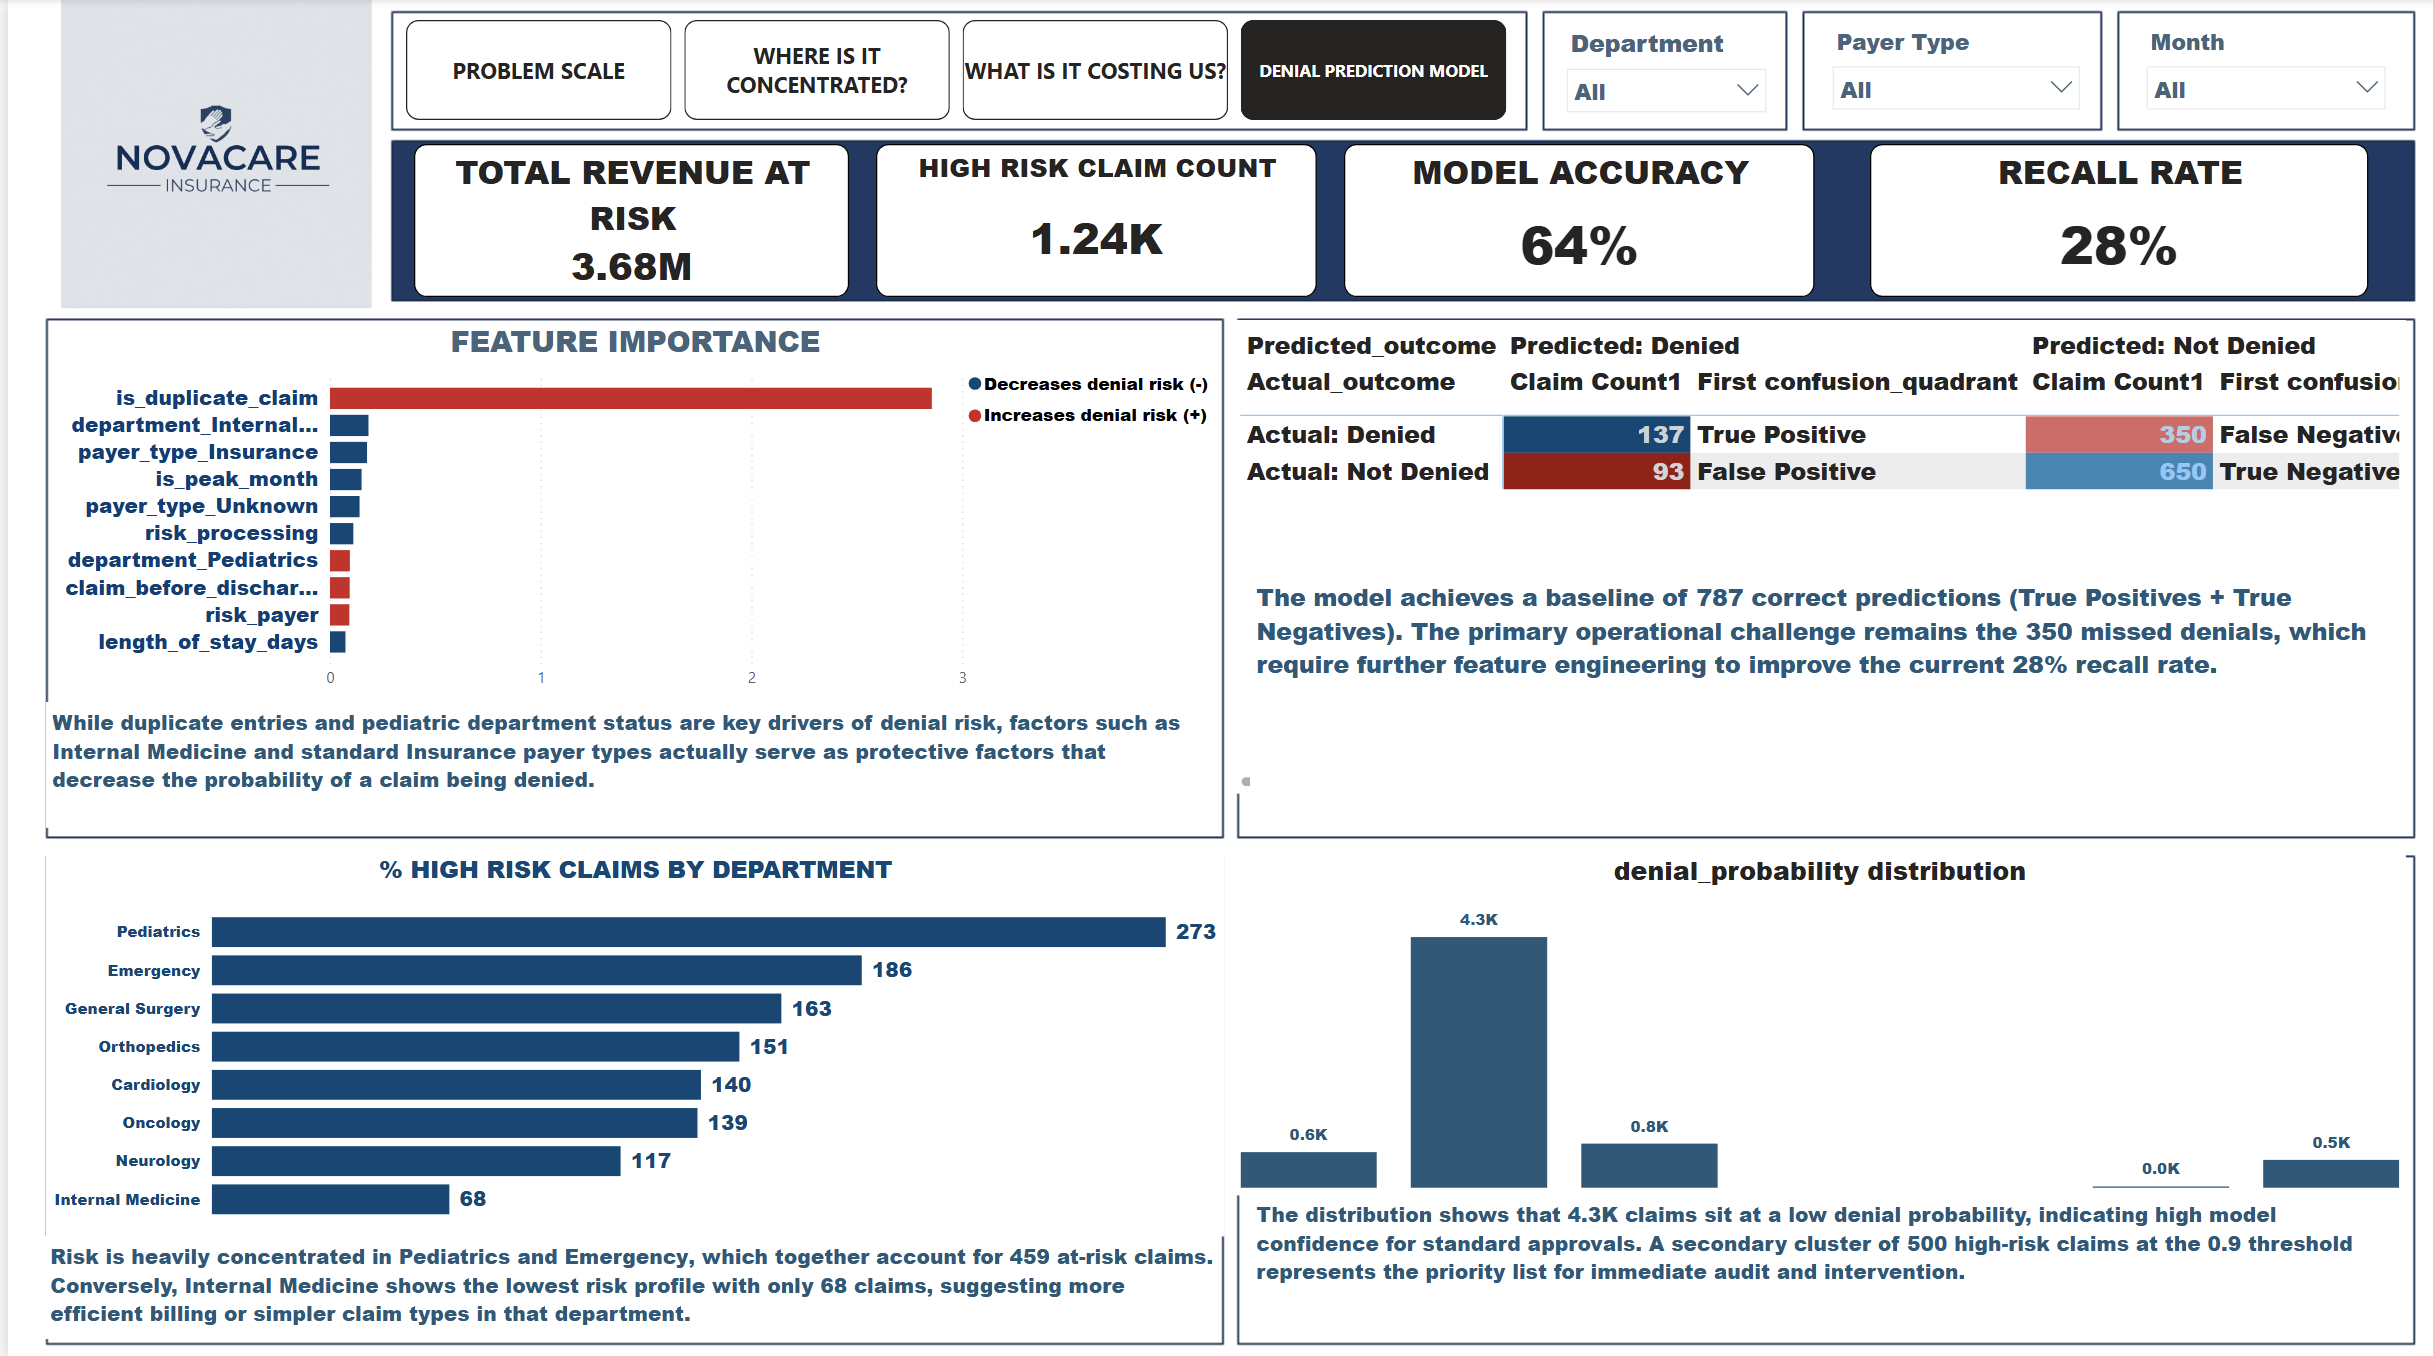

The page's visual inventory and layout, read from the dashboard file:
{"tool":"powerbi","page":{"name":"DENIAL PREDICTION MODEL","canvas":[1920,1080],"ordinal":3},"visuals":[{"type":"card","title":"TOTAL REVENUE AT RISK","fields":{"Values":["Sum(model_kpis.Total Value of High-Risk Claims)"]},"box":[320.3,114.7,344.1,121.2],"z":0},{"type":"card","title":"HIGH RISK CLAIM COUNT","fields":{"Values":["Sum(model_kpis.High-Risk Claims Flagged)"]},"box":[686,114.7,348.4,121.2],"z":1000},{"type":"card","title":"MODEL ACCURACY","fields":{"Values":["Sum(model_kpis.Model Accuracy)"]},"box":[1056.1,114.7,372.2,121.2],"z":2000},{"type":"card","title":"RECALL RATE","fields":{"Values":["Sum(model_kpis.Recall — Denied Class)"]},"box":[1471.6,114.7,393.9,121.2],"z":3000},{"type":"barChart","title":"FEATURE IMPORTANCE","fields":{"Category":["feature_importance.feature"],"Y":["Sum(feature_importance.importance)"],"Series":["feature_importance.Risk Direction"]},"box":[28.1,255.4,934.9,300.8],"z":4000},{"type":"pageNavigator","box":[314.7,17.5,872.2,79.6],"z":5000},{"type":"image","box":[30.2,0,269.4,245.7],"z":6000},{"type":"barChart","title":"% HIGH RISK CLAIMS BY DEPARTMENT ","fields":{"Category":["novacare_predictions (1).department"],"Y":["Sum(novacare_predictions (1).high_denial_risk)"]},"box":[30.8,675,932,304],"z":7000},{"type":"slicer","fields":{"Values":["claims output.department"]},"box":[1222,17.2,177.8,80.3],"z":8000},{"type":"slicer","fields":{"Values":["claims output.payer_type"]},"box":[1433,17.2,215.5,77.6],"z":9000},{"type":"slicer","fields":{"Values":["claims output.claim_submission_date.Variation.Date Hierarchy.Month"]},"box":[1680.8,17.2,209,77.6],"z":10000},{"type":"pivotTable","fields":{"Columns":["novacare_predictions (1).Predicted_label1"],"Values":["novacare_predictions (1).Claim Count1","Min(novacare_predictions (1).confusion_quadrant)"],"Rows":["novacare_predictions (1).Actual_outcome"]},"box":[969.5,255.4,926.3,374.4],"z":12000},{"type":"clusteredColumnChart","title":"denial_probability distribution","fields":{"Y":["novacare_predictions (1).Claim Count1"],"Category":["novacare_predictions (1).denial_probability (bins)"]},"box":[970,675,926.5,271.4],"z":12001},{"type":"textbox","box":[29,979,930.2,81.4],"z":12002},{"type":"textbox","box":[982.6,456,908.4,199.1],"z":12003},{"type":"textbox","box":[982.5,945.7,913.3,114.7],"z":12004},{"type":"textbox","box":[30.3,556.2,928.4,99.6],"z":12005}]}

Visuals, with their boxes in screenshot pixels (x1, y1, x2, y2), scaled from the page's 1920x1080 canvas onto the 2433x1356 screenshot:
"TOTAL REVENUE AT RISK" card: 406/144/842/296
"HIGH RISK CLAIM COUNT" card: 869/144/1311/296
"MODEL ACCURACY" card: 1338/144/1810/296
"RECALL RATE" card: 1865/144/2364/296
"FEATURE IMPORTANCE" barChart: 36/321/1220/698
pageNavigator: 399/22/1504/122
image: 38/0/380/308
"% HIGH RISK CLAIMS BY DEPARTMENT " barChart: 39/848/1220/1229
slicer - claims output.department: 1549/22/1774/122
slicer - claims output.payer_type: 1816/22/2089/119
slicer - claims output.claim_submission_date.Variation.Date Hierarchy.Month: 2130/22/2395/119
pivotTable - novacare_predictions (1).Predicted_label1 x novacare_predictions (1).Claim Count1: 1229/321/2402/791
"denial_probability distribution" clusteredColumnChart: 1229/848/2403/1188
textbox: 37/1229/1215/1331
textbox: 1245/573/2396/823
textbox: 1245/1187/2402/1331
textbox: 38/698/1215/823
